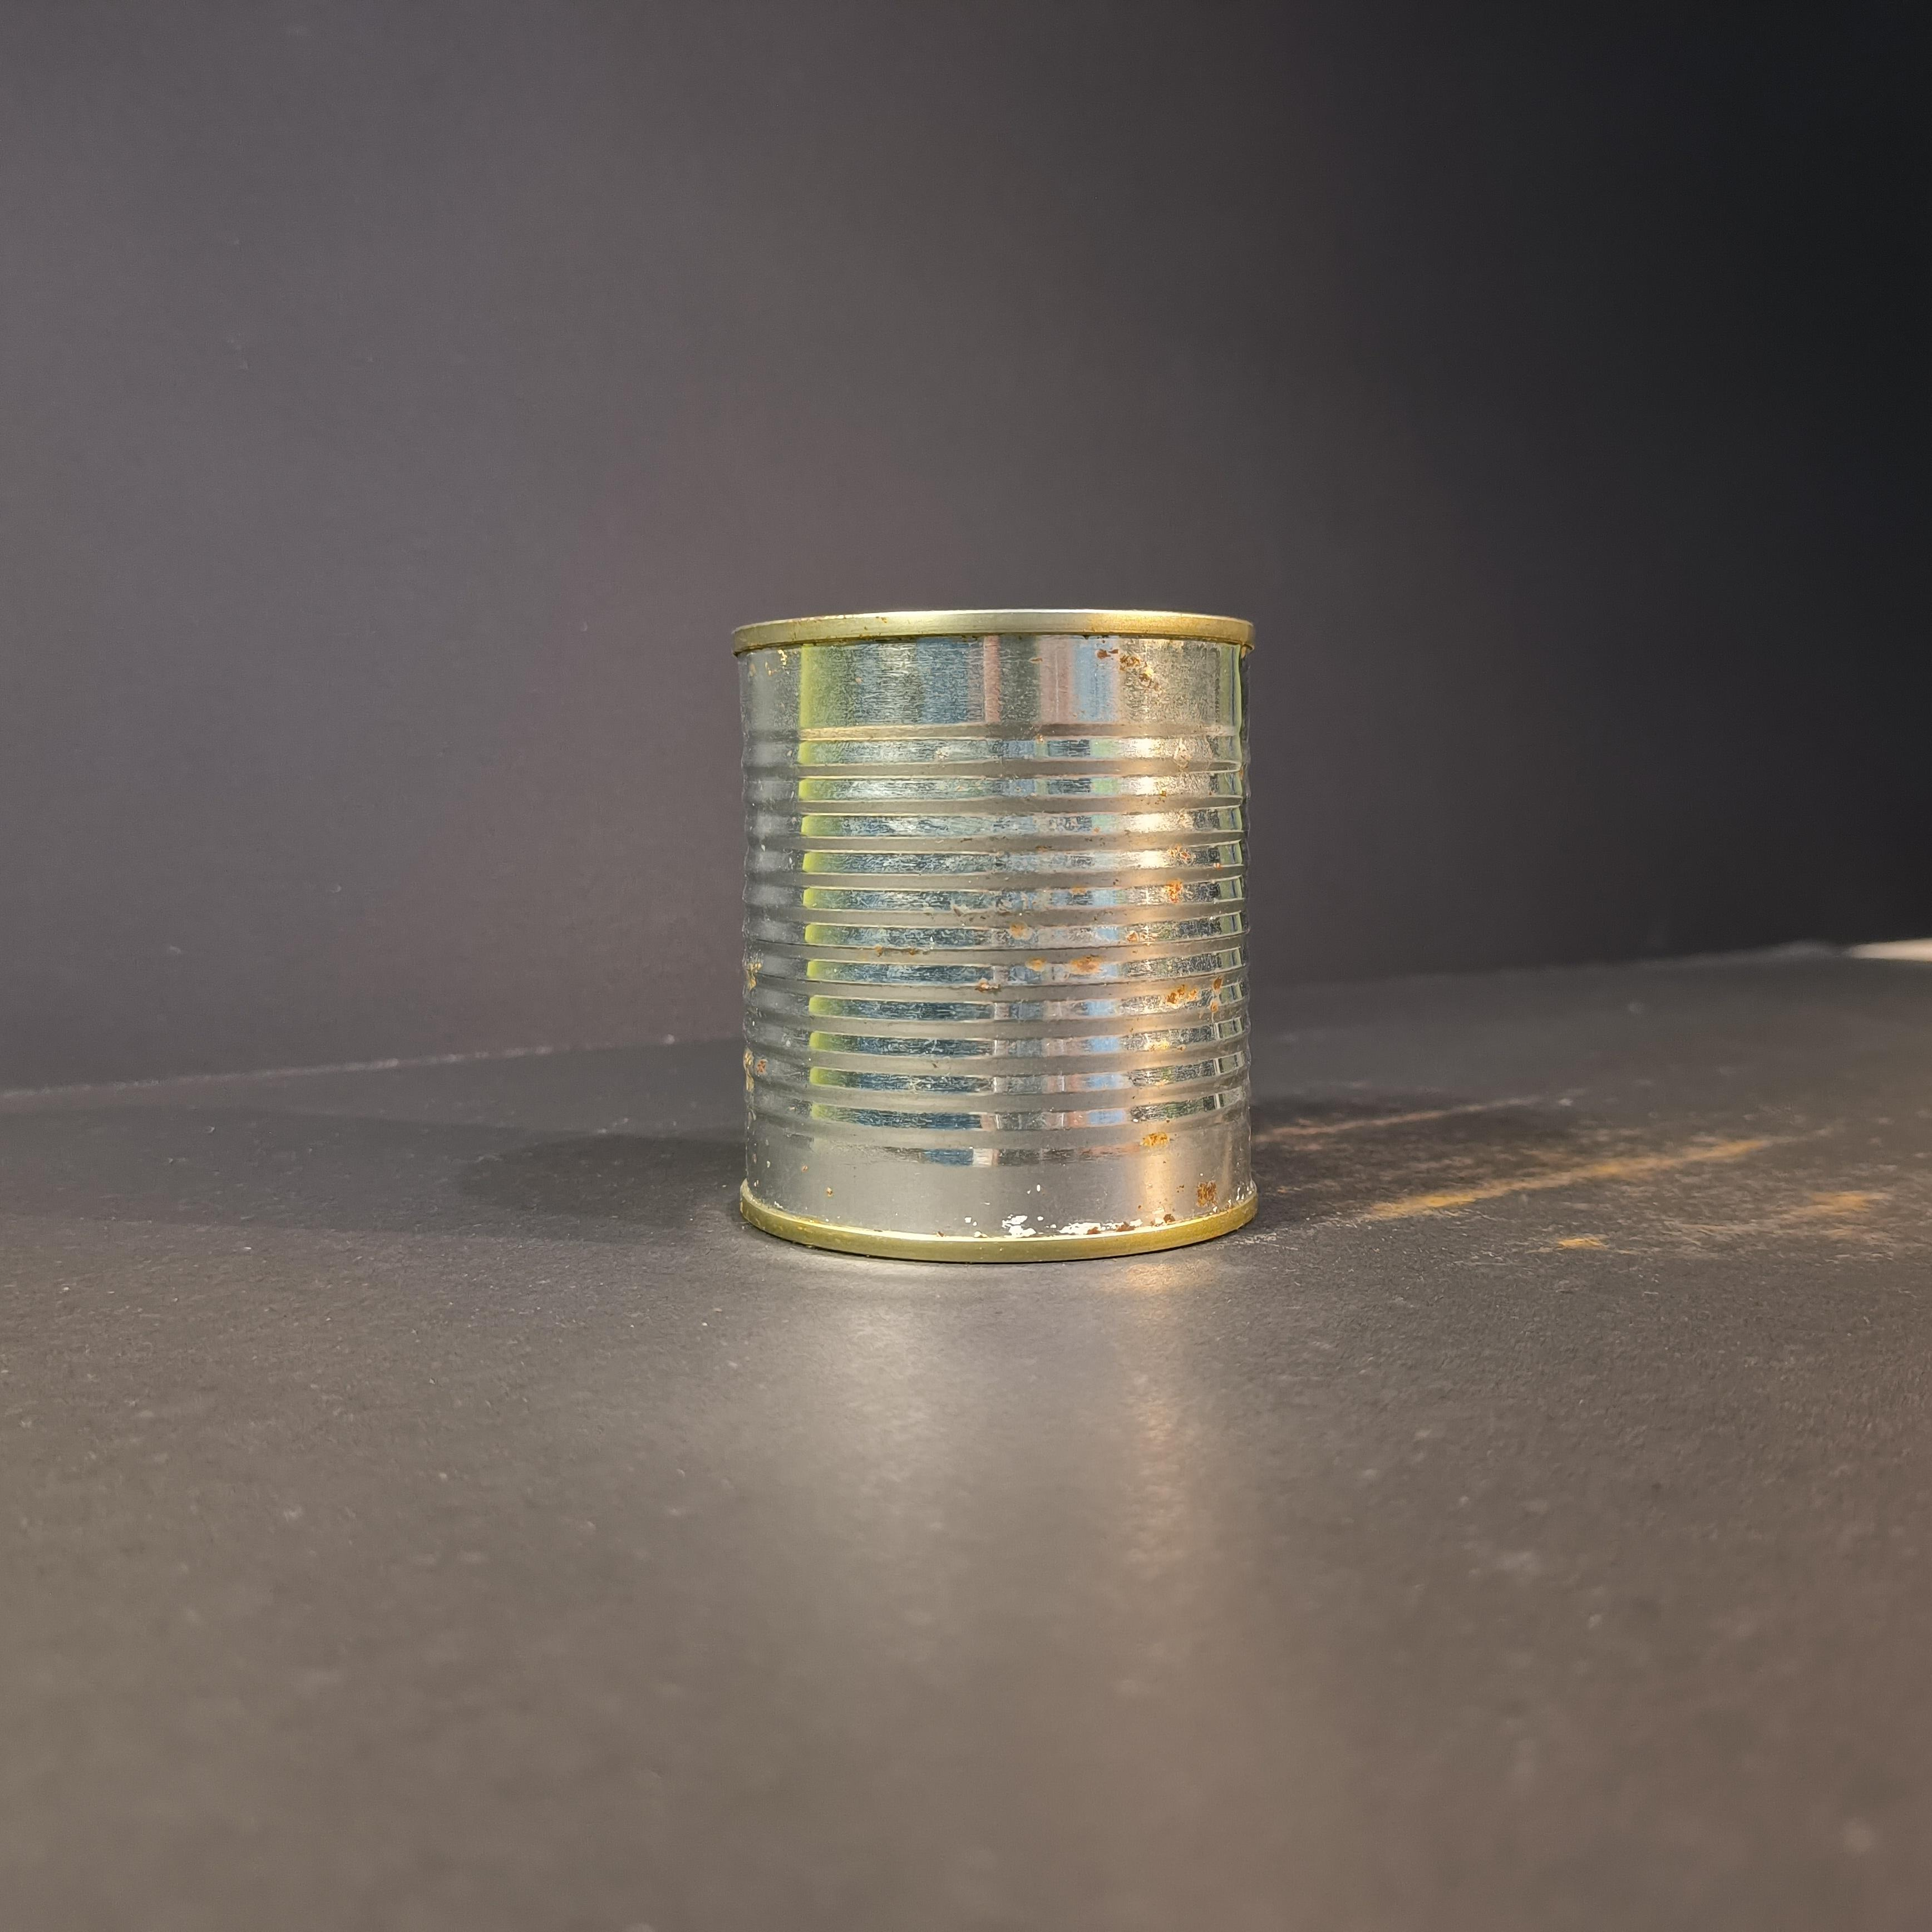Minor Defect: (727, 598, 1263, 1270)
